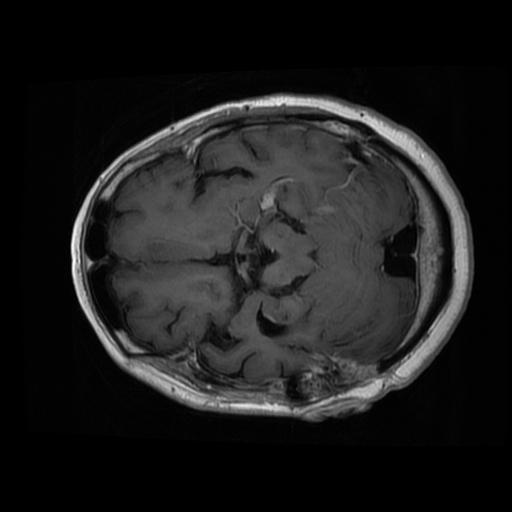glioma: (284, 349, 376, 400)
